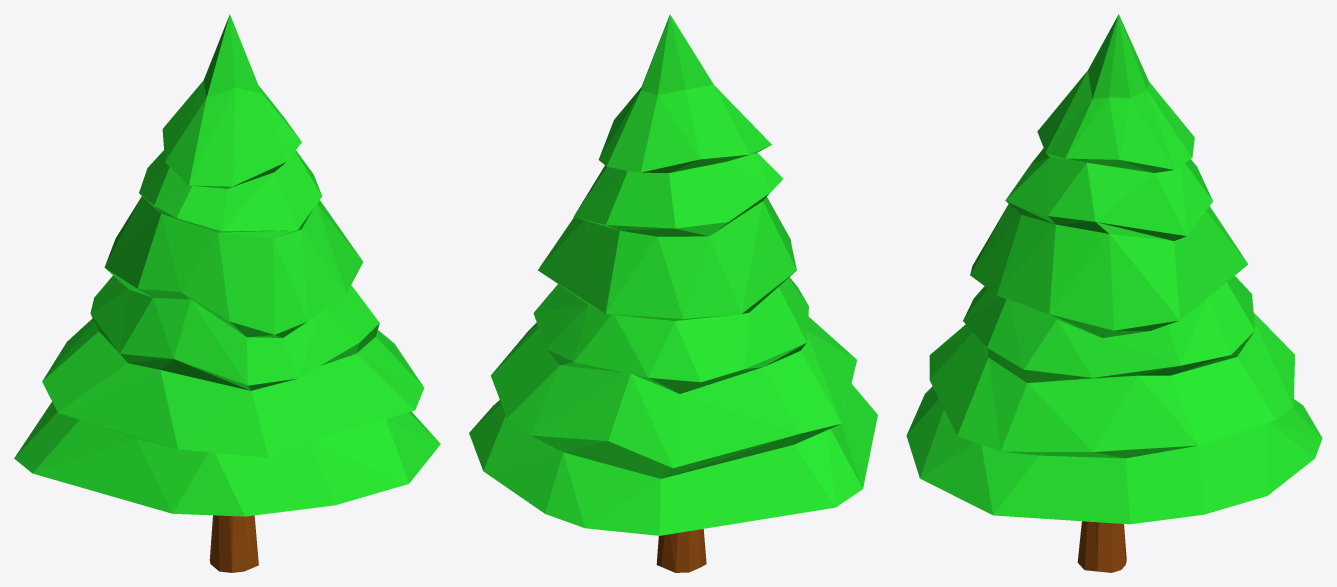
File: tree-pyramidal.glb
3 renders of one model, left to right at view 1: azimuth 30°, elevation 25°; view 2: azimuth 150°, elevation 25°; view 3: azimuth 270°, elevation 25°, orthographic. The views are drawn at different scales.
Parts seen in each view (by area): view 1: leaves, trunk; view 2: leaves, trunk; view 3: leaves, trunk.
Part boxes in pixels (box(x1,y1,x2,y2)): leaves: box(14, 14, 440, 516); trunk: box(209, 515, 258, 572); leaves: box(469, 14, 877, 535); trunk: box(656, 529, 706, 572); leaves: box(906, 14, 1322, 524); trunk: box(1077, 521, 1126, 572).
Size of the model in its own units: 6.24 by 8.98 by 6.13.
